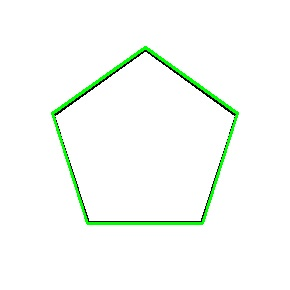line_segment: (52, 47, 238, 225)
